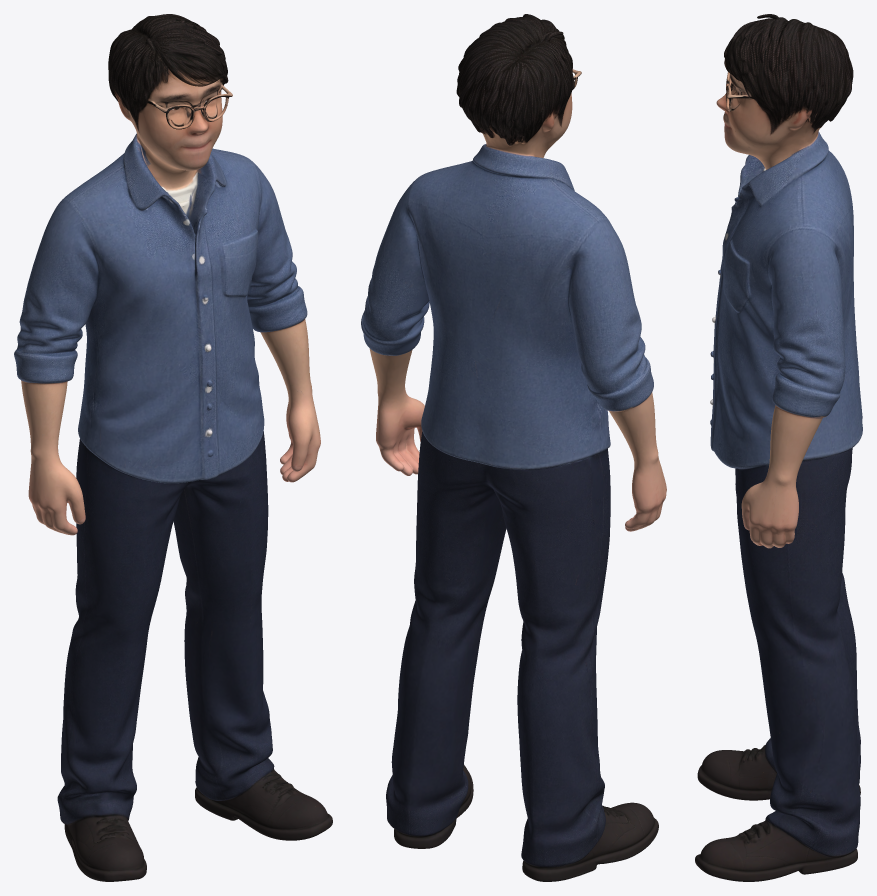
File: 6-3-담임선생님.glb
The picture shows the model from 3 angles, left to right: view 1: azimuth 30°, elevation 25°; view 2: azimuth 150°, elevation 25°; view 3: azimuth 270°, elevation 25°; orthographic projection.
Size of the model in its own units: 0.6845 by 1.9 by 0.3593.
Materials: 1 (1 with a texture image).
